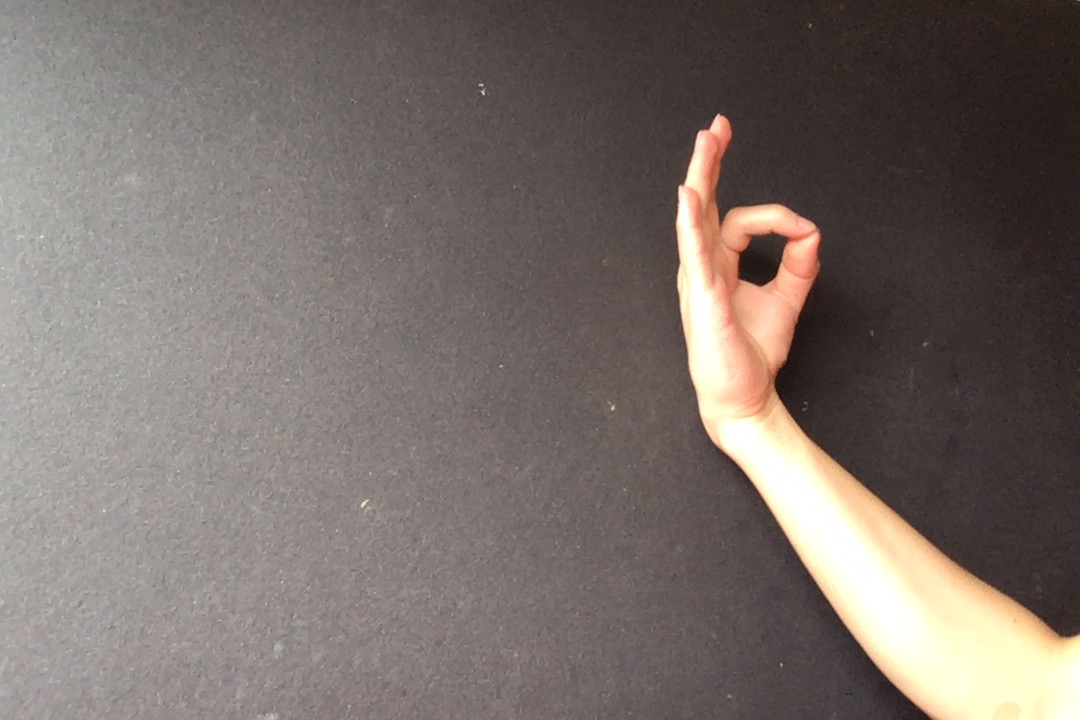oksign: (663, 108, 826, 435)
